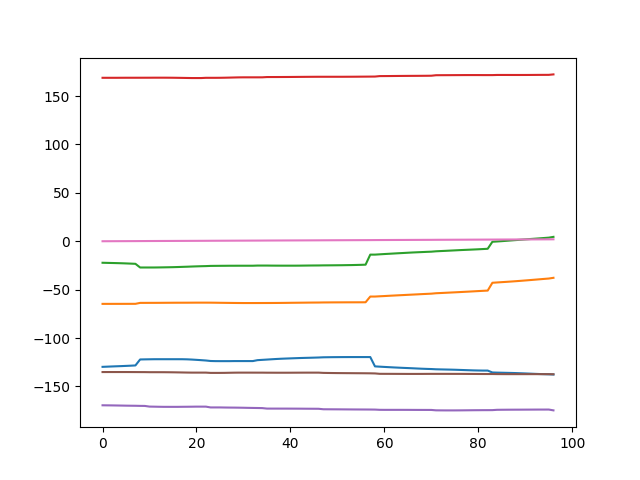Too_Slow_Down: (1, 1, 640, 480)
